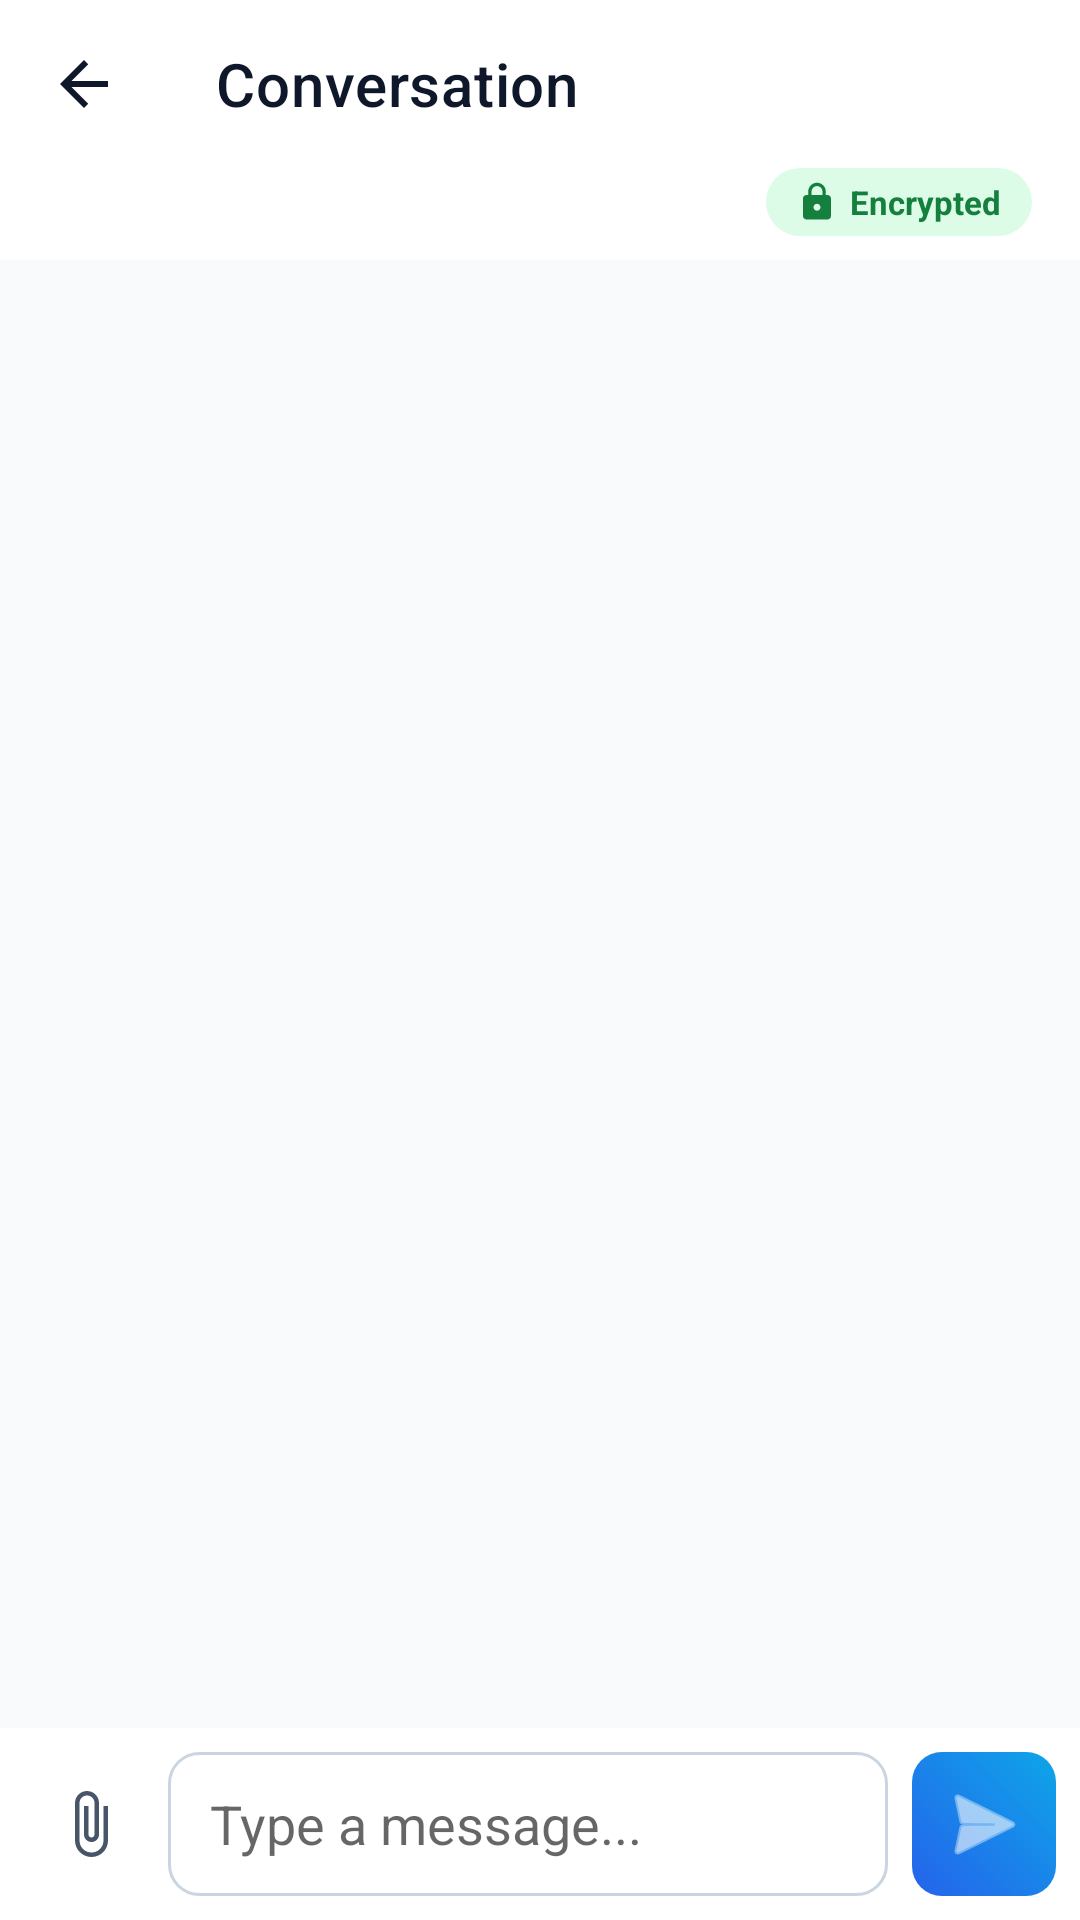

Point at icon controls on the screen. Image size 1080w x 1920h, points as point (x, y).
Attach a document: point (91, 1824)
send: point (984, 1824)
